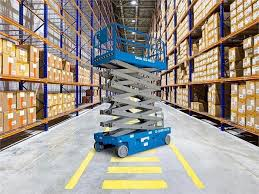Scissor Lift: (92, 23, 173, 158)
